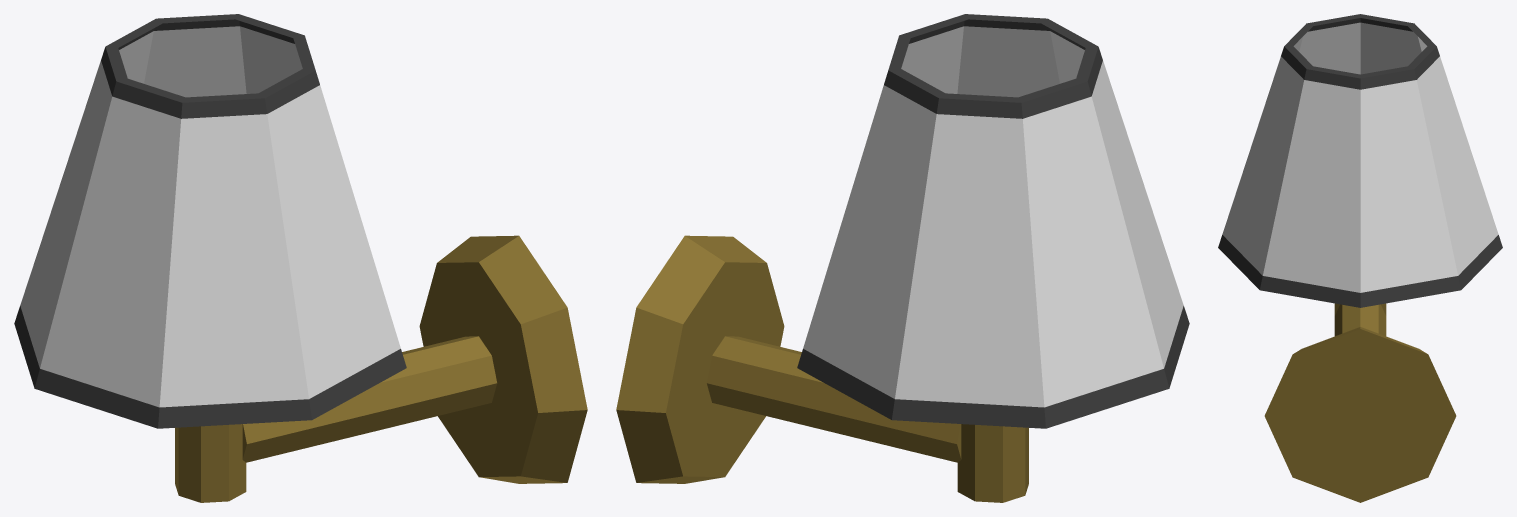
File: Avize.fbx
The picture shows the model from 3 angles, left to right: view 1: azimuth 30°, elevation 25°; view 2: azimuth 150°, elevation 25°; view 3: azimuth 270°, elevation 25°; orthographic projection. The views are drawn at different scales.
Parts seen in each view (by area): view 1: avize; view 2: avize; view 3: avize.
Boxes of the visible parts, x1,y1,x2,y2 form: avize: (14,14,587,502); avize: (616,14,1189,502); avize: (1218,14,1502,502).
Bounding box in the file's own units: 409 × 404 × 297.
